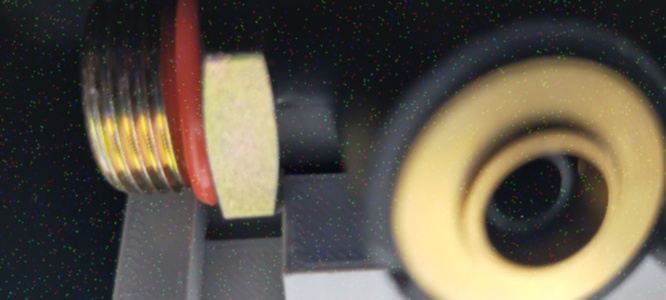bump: (383, 259, 412, 291)
joint line: (299, 99, 335, 113)
white mark: (274, 89, 296, 107)
